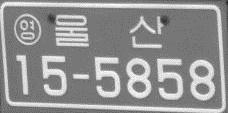-: (69, 68, 91, 85)
1: (11, 53, 36, 96)
5: (155, 57, 183, 101), (93, 55, 121, 98), (40, 54, 67, 96)
8: (124, 57, 151, 99), (188, 59, 215, 101)
영: (13, 12, 41, 46)
울산_D: (53, 13, 164, 49)
